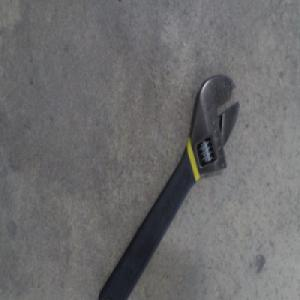AdjustableWrench: (98, 74, 242, 299)
